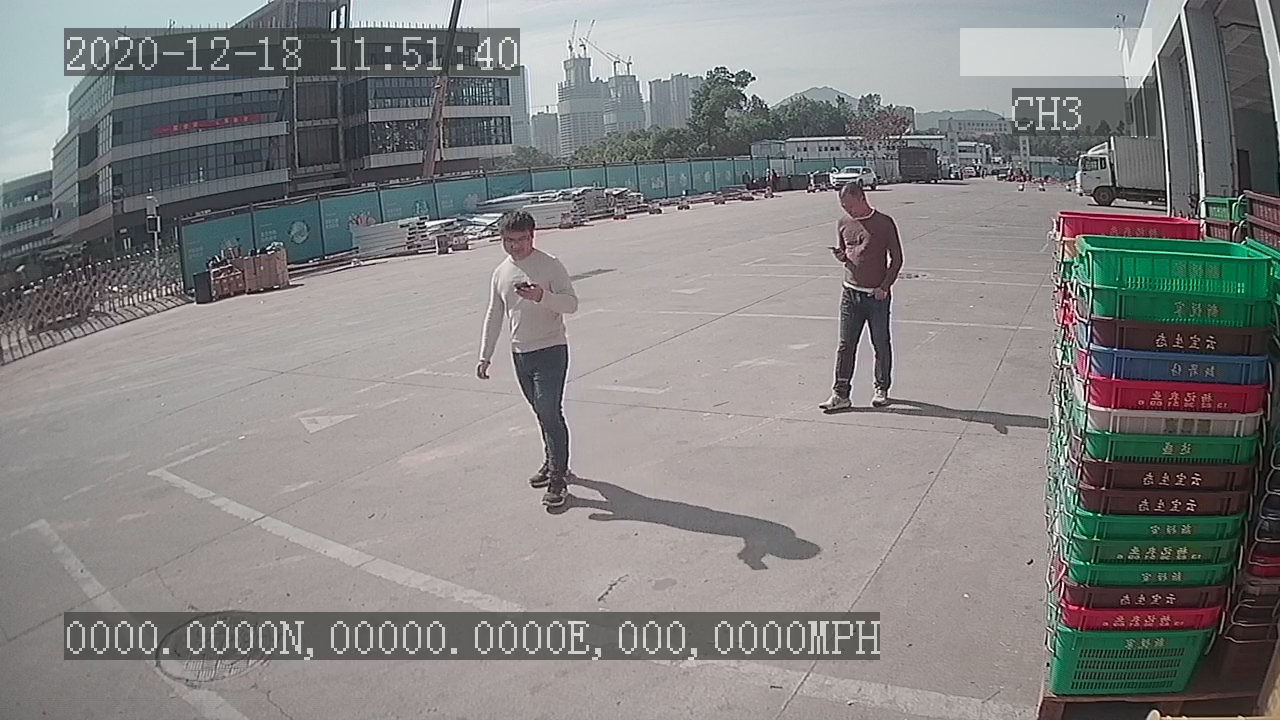person: (468, 206, 581, 515), (813, 179, 909, 420)
